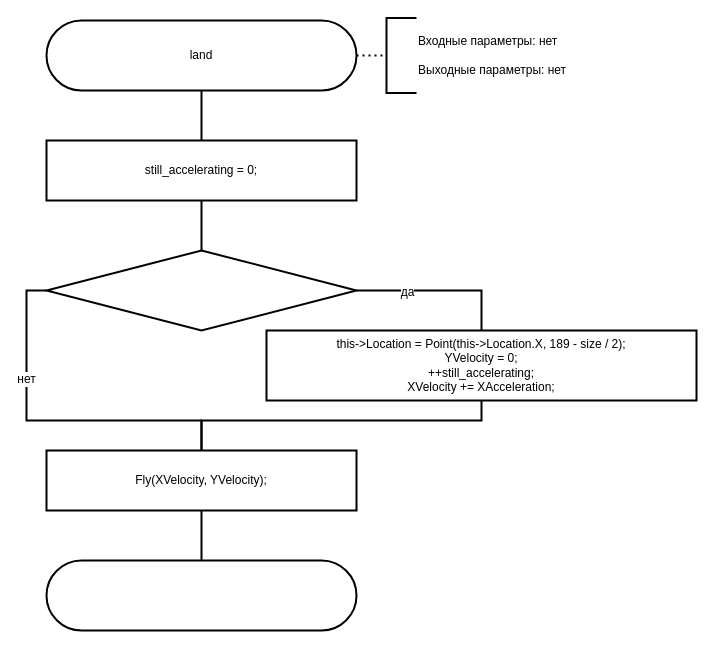
Some shapes in this 714 by 649 pixel diagram are drawn without their labels. Each missing label, with the box of its shape:
this->Location.Y >= 189 - size / 2: (45, 249, 357, 331)
Конец: (45, 559, 357, 631)
